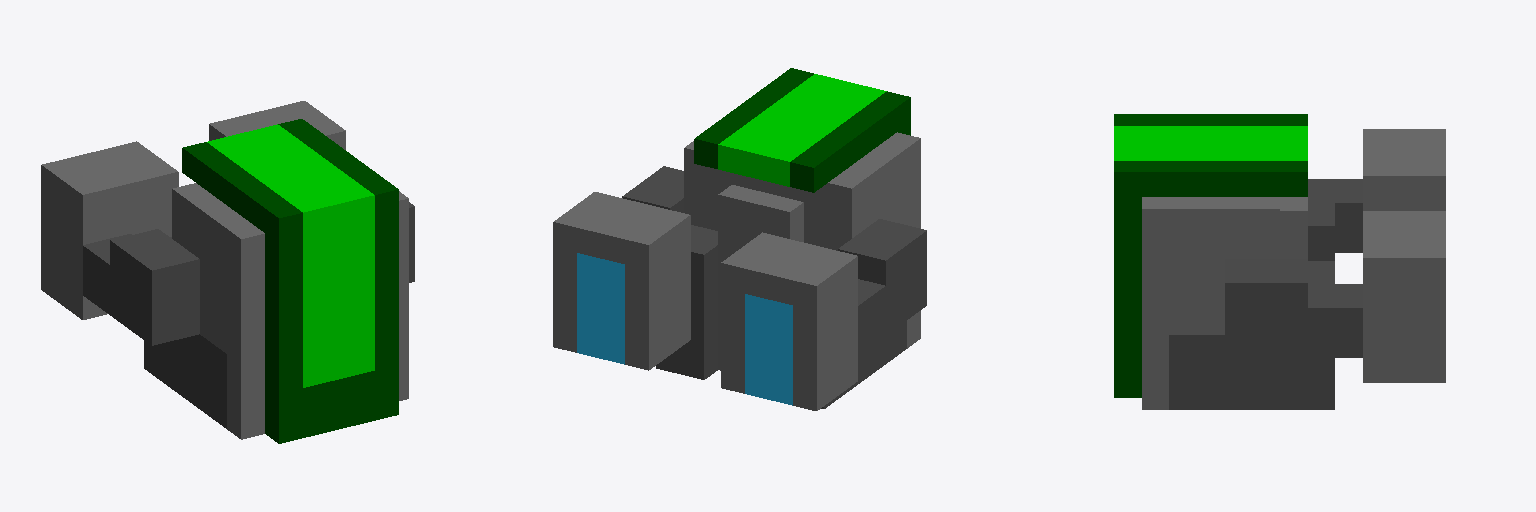
3 views of the same model, side by side, from view 1: azimuth 30°, elevation 25°; view 2: azimuth 150°, elevation 25°; view 3: azimuth 270°, elevation 25° (orthographic).
Size of the model in its own units: 11 by 9 by 12.
Materials: 1 (1 with a texture image).